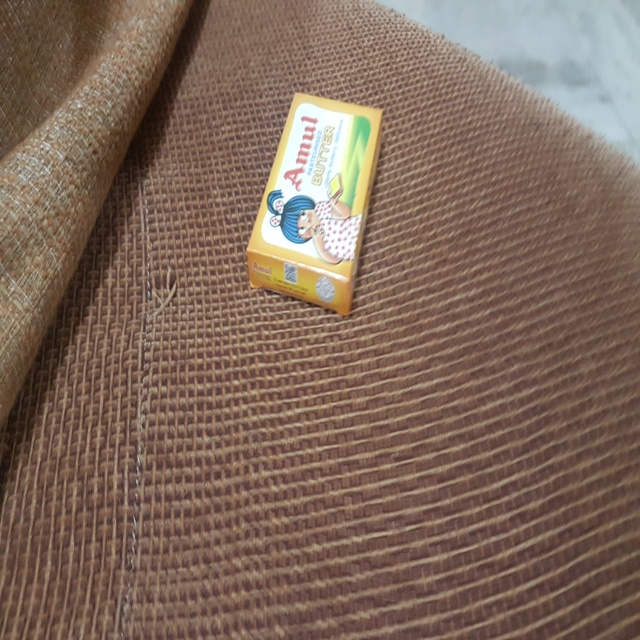butter: (247, 90, 385, 313)
